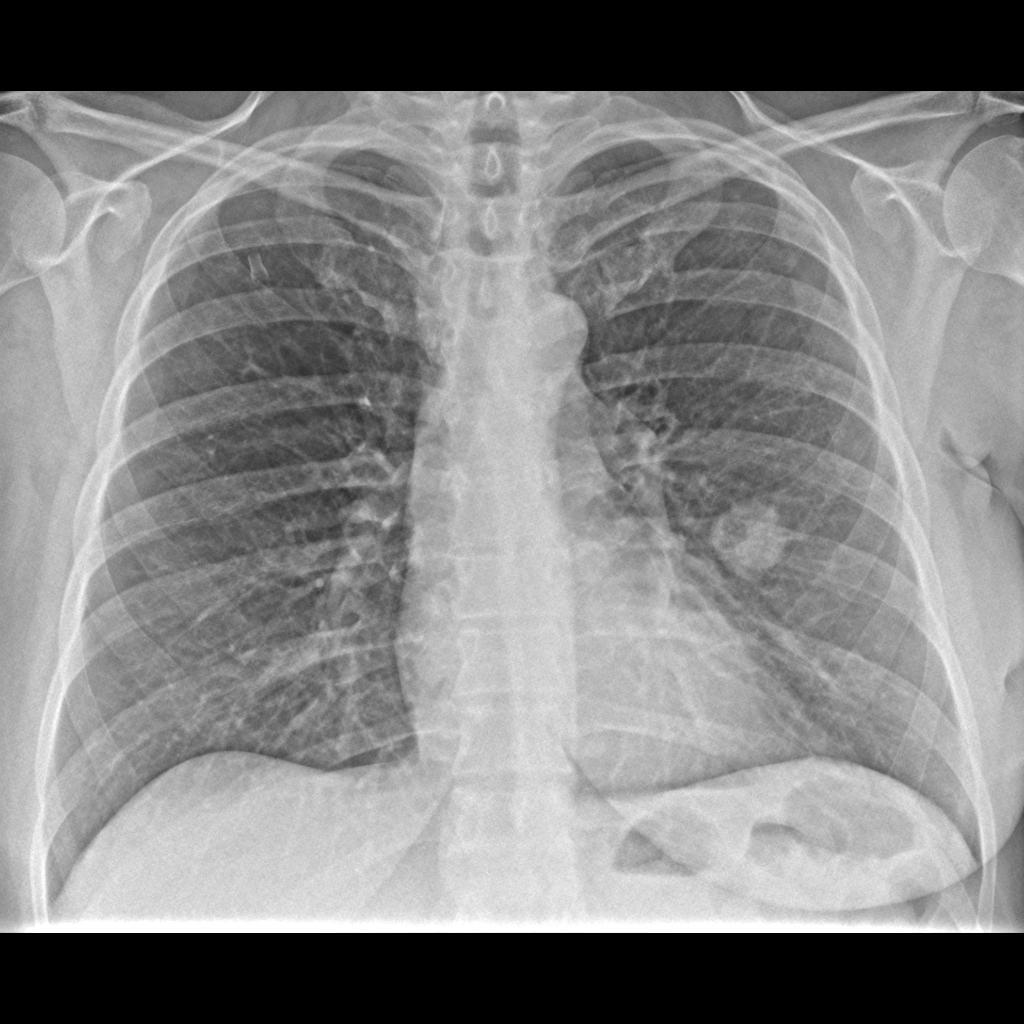Nodule: (706, 499, 803, 585)
